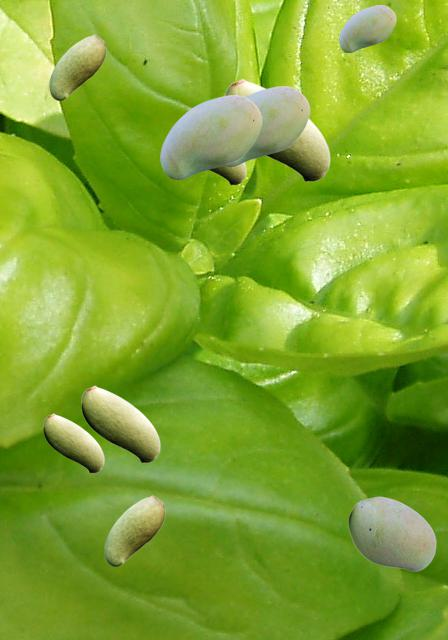green_mango: (224, 78, 329, 181), (160, 95, 261, 178), (227, 86, 309, 165), (348, 496, 435, 570), (81, 385, 159, 462), (104, 495, 164, 565), (49, 34, 105, 99), (43, 413, 103, 472), (339, 5, 395, 51), (209, 163, 245, 184)
